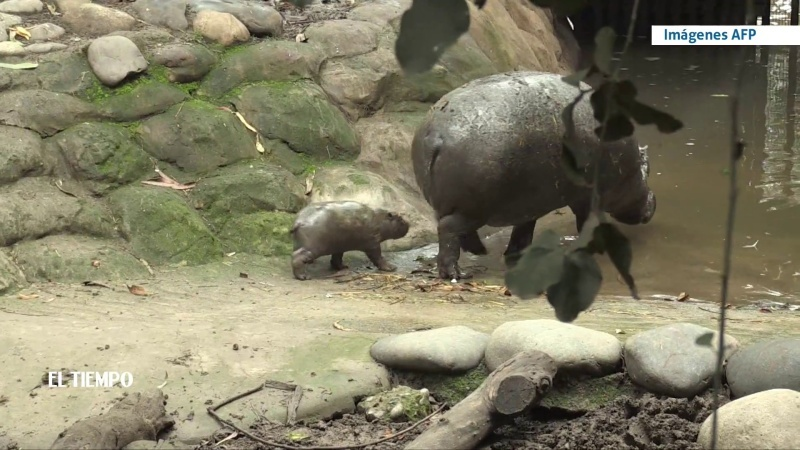hipopotamo: (409, 66, 680, 293), (278, 185, 427, 300)
